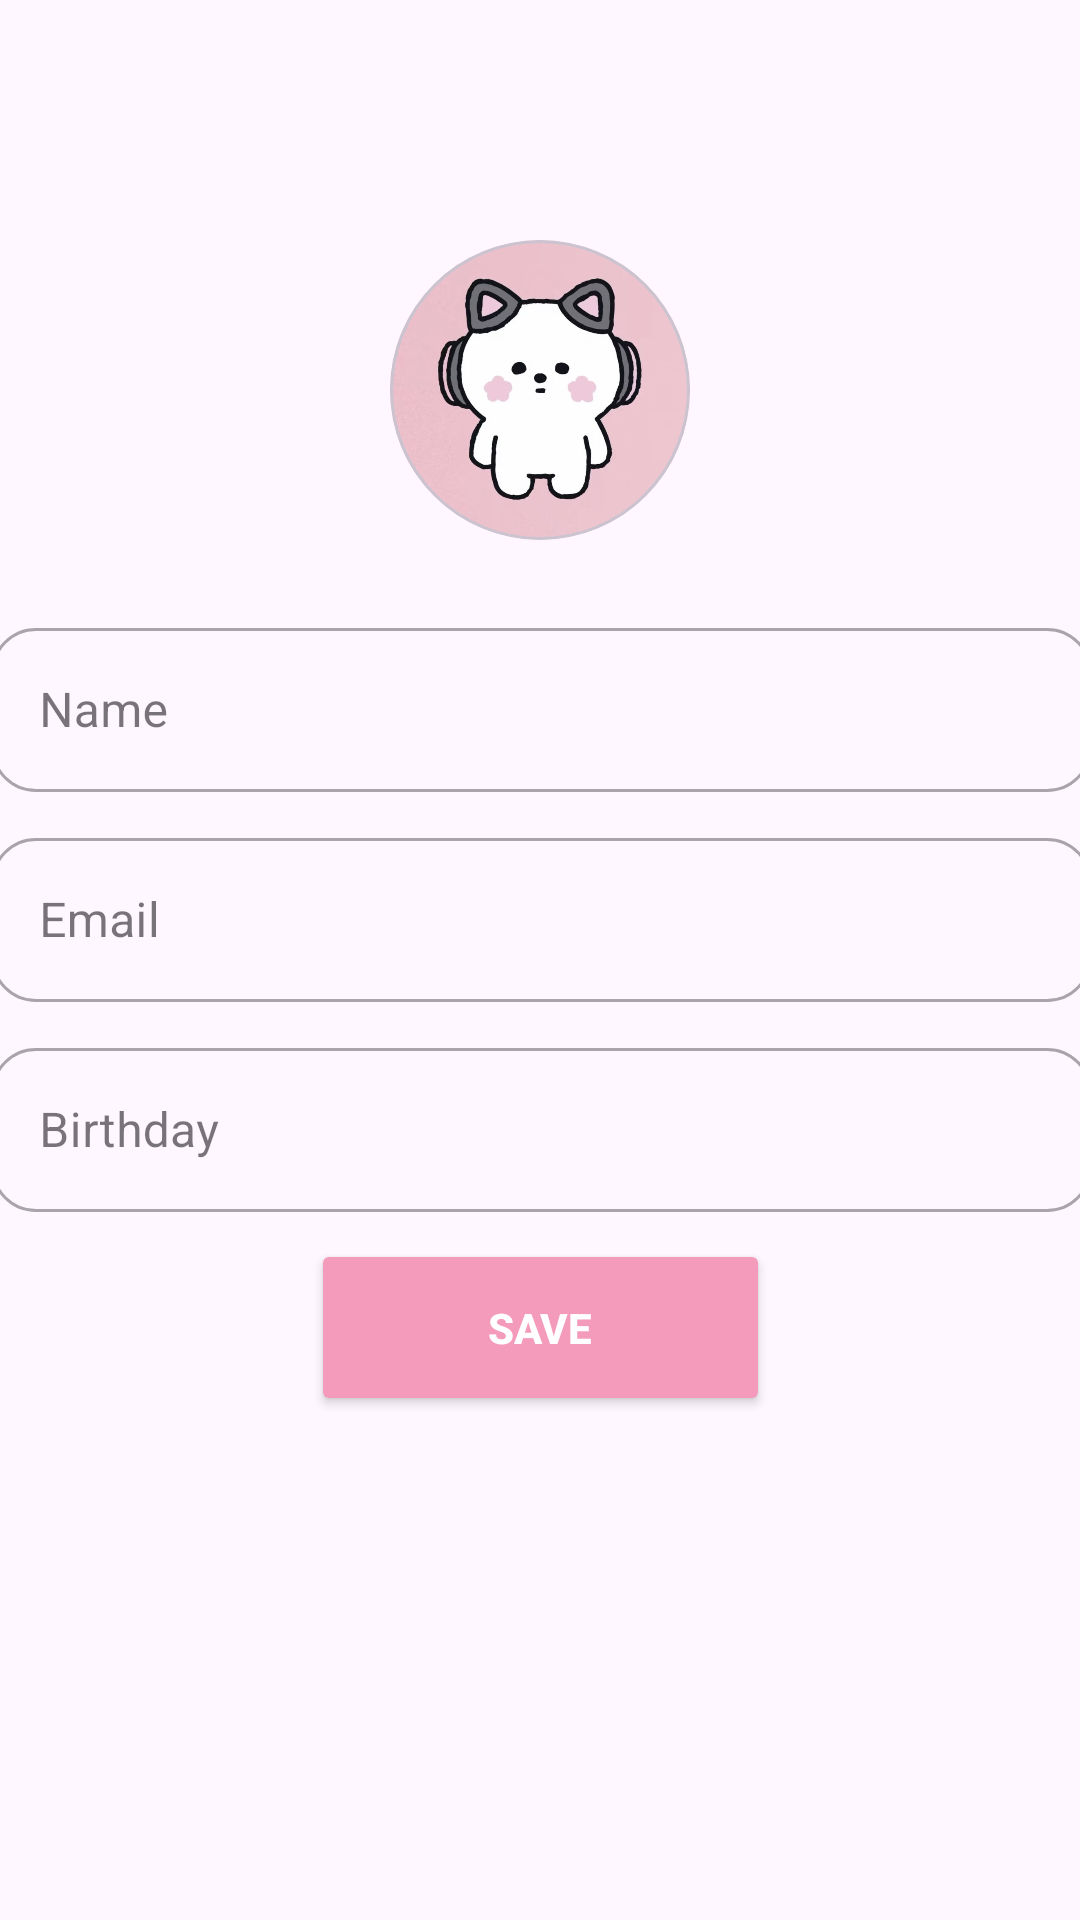

Where icons sit on this 1080px x 1920px app screen, as BBox(x1, y1, x2, y2):
profil anon: BBox(390, 240, 690, 540)
